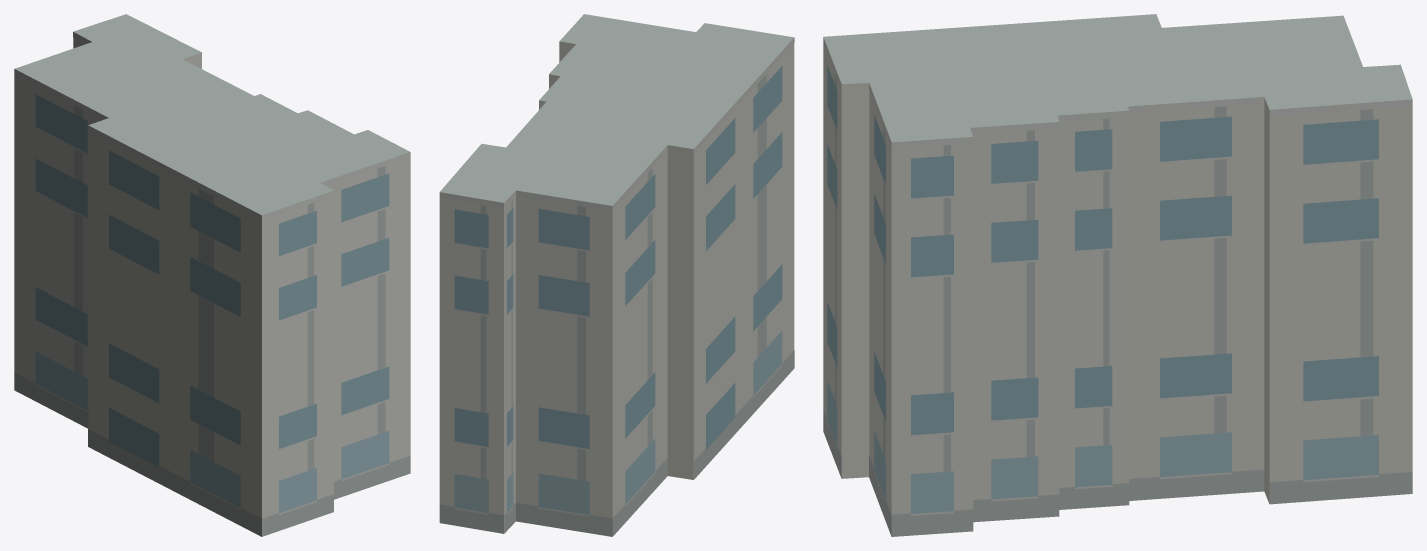
Rendered from survey-upis-32709443.glb.
The picture shows the model from 3 angles, left to right: view 1: azimuth 30°, elevation 25°; view 2: azimuth 150°, elevation 25°; view 3: azimuth 270°, elevation 25°; orthographic projection. The views are drawn at different scales.
Parts seen in each view (by area): view 1: survey-upis-32709443.tmp; view 2: survey-upis-32709443.tmp; view 3: survey-upis-32709443.tmp.
Part boxes in pixels (x1,y1,x2,y2): survey-upis-32709443.tmp: (14, 14, 410, 536); survey-upis-32709443.tmp: (439, 14, 794, 536); survey-upis-32709443.tmp: (823, 14, 1412, 536).
Size of the model in its own units: 9.99 by 14.3 by 19.37.
